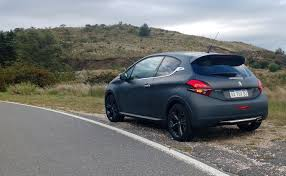car: (105, 50, 268, 139)
